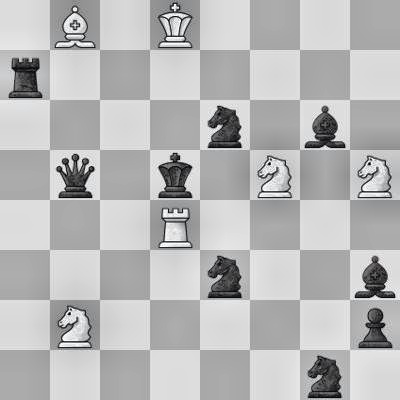black-bishop: (300, 100, 350, 150), (350, 250, 400, 300)
black-king: (150, 150, 200, 200)
black-knight: (200, 100, 250, 150), (200, 250, 250, 300), (300, 350, 350, 400)
black-pawn: (350, 300, 400, 350)
black-queen: (50, 150, 100, 200)
black-rook: (0, 50, 50, 100)
white-bishop: (50, 0, 100, 50)
white-king: (150, 0, 200, 50)
white-knight: (250, 150, 300, 200), (350, 150, 400, 200), (50, 300, 100, 350)
white-rook: (150, 200, 200, 250)
